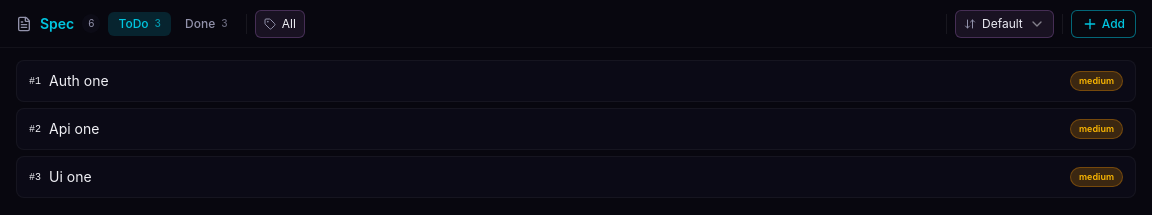
Scenario: SpecsBoard label filter dropdown › multi-select uses OR semantics in both the ToDo and Done buckets
Click the button with test id "spec-label-filter-dropdown" at (280, 24), box [255,10,305,38]
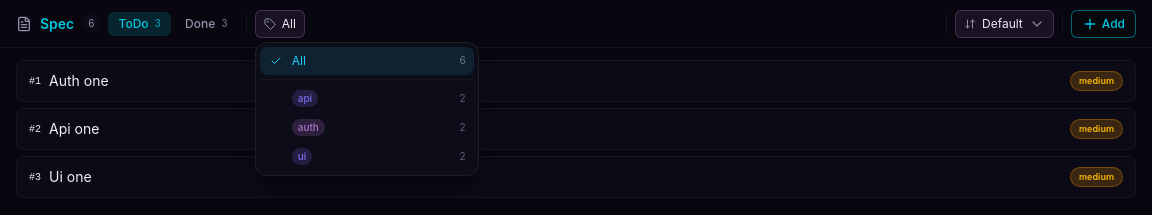
Click the text "auth" at (308, 127), box [292,119,325,136]
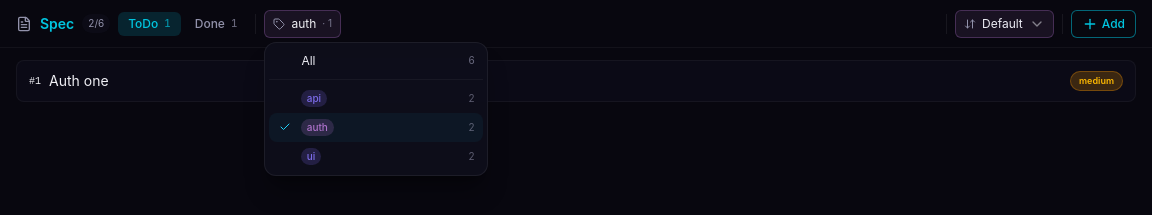
Click the text "api" at (315, 98), box [301,90,328,107]
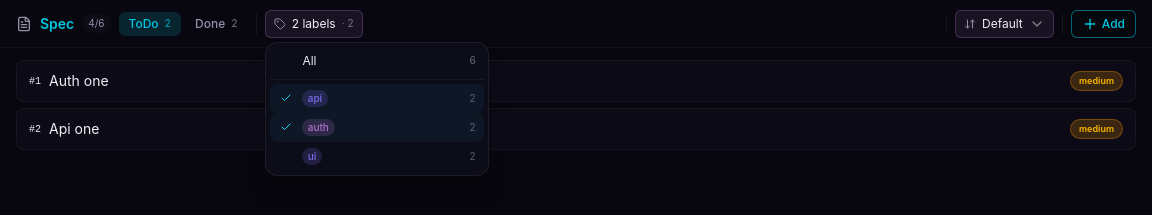
Expected: the text "Auth one" is shown, [49,72,109,89]
Expected: the text "Api one" is shown, [49,120,99,137]
Click the tab with test id "specs-tab-done" at (216, 24), box [185,12,248,36]
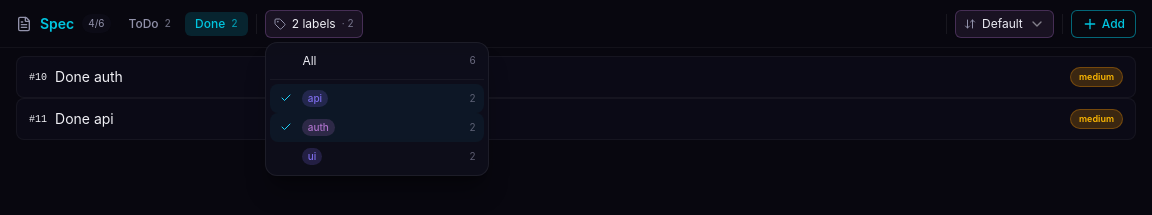
Expected: the text "Done auth" is shown, [55,68,123,85]
Expected: the text "Done api" is shown, [55,110,114,127]
